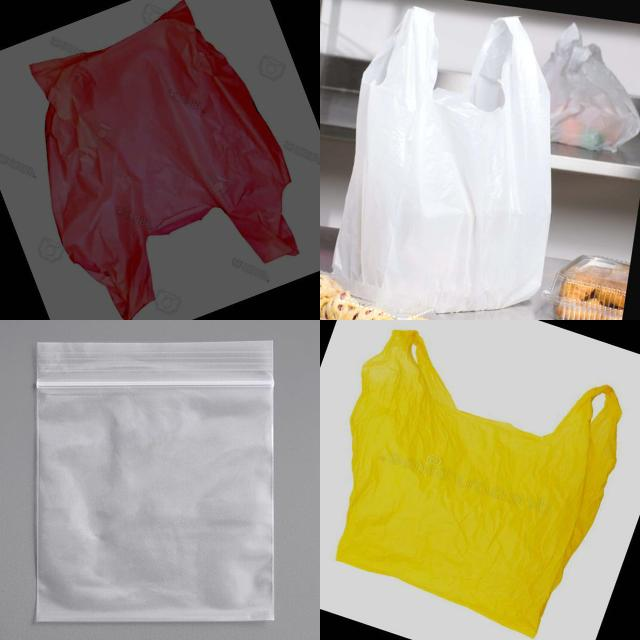Single-layer Plastic: (336, 330, 621, 638), (30, 0, 299, 319), (36, 341, 274, 622), (334, 8, 551, 312), (542, 24, 640, 151)
